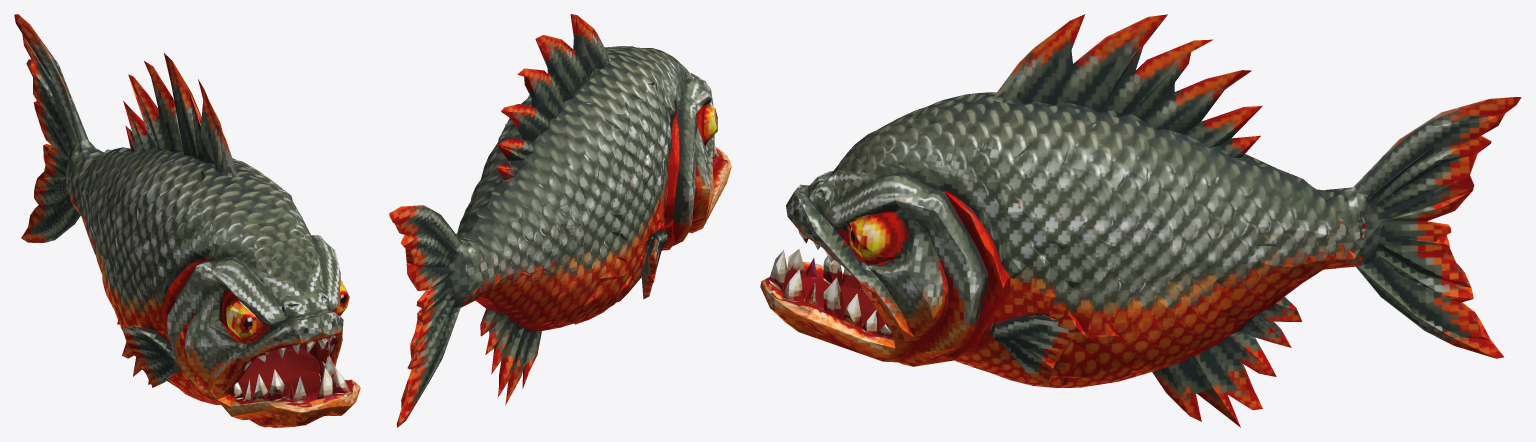
Rendered from piranha_optimized.glb.
3 renders of one model, left to right at view 1: azimuth 30°, elevation 25°; view 2: azimuth 150°, elevation 25°; view 3: azimuth 270°, elevation 25°, orthographic. The views are drawn at different scales.
Visible parts, largest first — view 1: output_unwrapped; view 2: output_unwrapped; view 3: output_unwrapped.
Boxes of the visible parts, x1,y1,x2,y2 form: output_unwrapped: (14, 14, 360, 427); output_unwrapped: (389, 14, 731, 427); output_unwrapped: (760, 14, 1521, 427).
Size of the model in its own units: 0.5552 by 1.14 by 1.9.
1 material, 1 textured.
